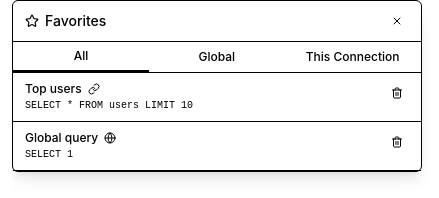
FavoritesPanel reset affordance (Q21 #9 — audit) › entry remove 버튼 클릭 → 해당 favorite 가 store 에서 사라짐 + UI 즉시 갱신
This screenshot has width=439, height=198.
Check: the text "Top users" is shown, box [25,81,82,97]
Check: the text "Global query" is shown, box [25,130,98,146]
Click the button named "delete favorite: top users" at (397, 93), box [385,81,409,105]
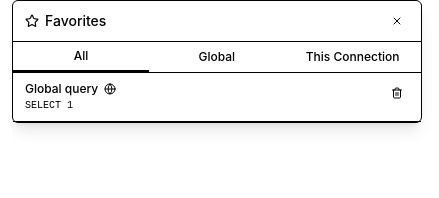
Check: the text "Global query" is shown, box [25,81,98,97]
Check: the button "Top users" is gone
